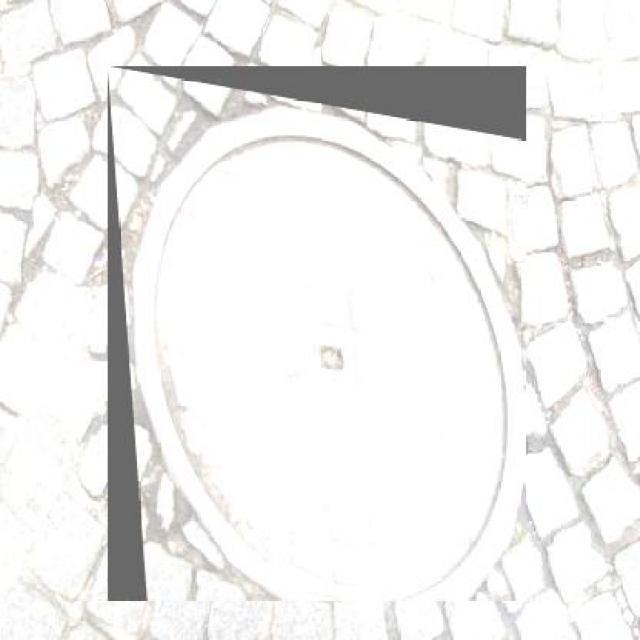Manhole: (117, 66, 536, 600)
